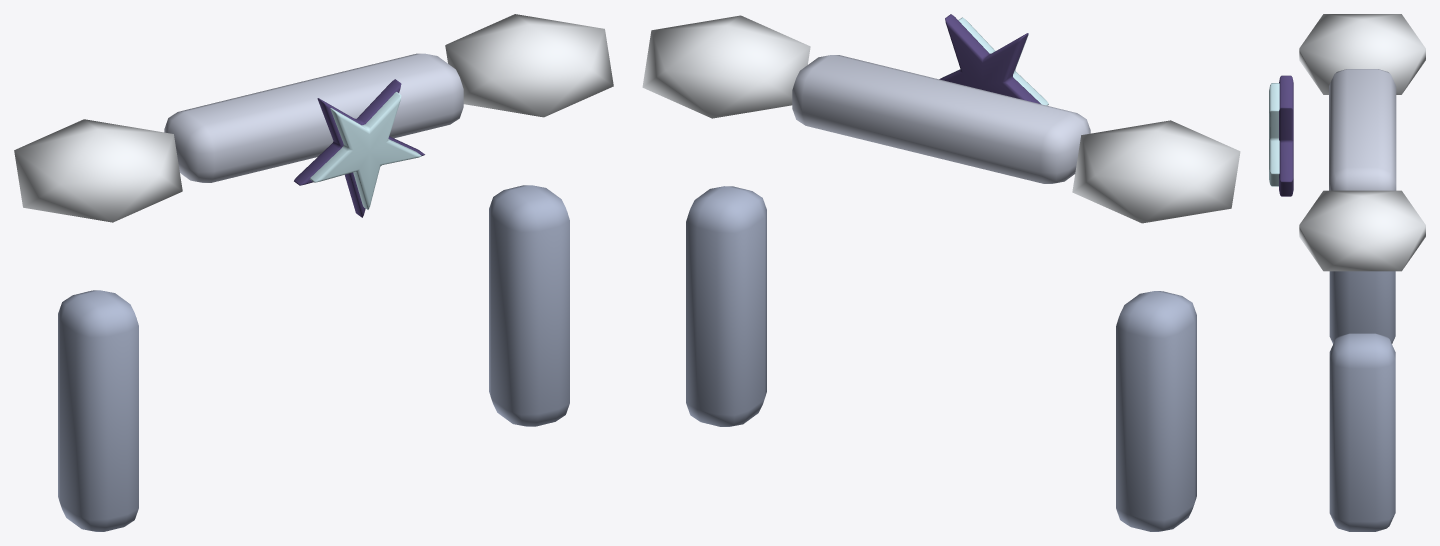
The model's file is northern_gate.glb.
3 views of the same model, side by side, from view 1: azimuth 30°, elevation 25°; view 2: azimuth 150°, elevation 25°; view 3: azimuth 270°, elevation 25° (orthographic). The views are drawn at different scales.
Visible parts, largest first — view 1: Lintel.001, StonePost_1.0, StonePost_-1.0, PostSnow_-1.0, PostSnow_1.0, Snowflake, SnowflakeInk; view 2: Lintel.001, StonePost_-1.0, StonePost_1.0, PostSnow_-1.0, PostSnow_1.0, SnowflakeInk; view 3: StonePost_1.0, PostSnow_1.0, Lintel.001, PostSnow_-1.0, StonePost_-1.0, SnowflakeInk, Snowflake.
Boxes of the visible parts, x1,y1,x2,y2 form: Lintel.001: (164,53,463,182); StonePost_1.0: (489,185,569,426); StonePost_-1.0: (58,290,138,531); PostSnow_-1.0: (14,119,182,222); PostSnow_1.0: (445,14,613,117); Snowflake: (310,92,421,209); SnowflakeInk: (294,79,424,217); Lintel.001: (792,55,1090,183); StonePost_-1.0: (1116,291,1196,531); StonePost_1.0: (686,186,766,426); PostSnow_-1.0: (1072,120,1240,223); PostSnow_1.0: (642,15,810,118); SnowflakeInk: (939,14,1040,103); StonePost_1.0: (1329,333,1395,531); PostSnow_1.0: (1299,190,1425,271); Lintel.001: (1329,69,1396,190); PostSnow_-1.0: (1299,14,1425,94); StonePost_-1.0: (1329,271,1395,343); SnowflakeInk: (1279,75,1293,196); Snowflake: (1269,83,1279,186).
Size of the model in its own units: 6.21 by 4.22 by 1.73.
